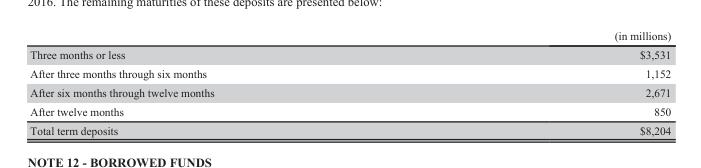table: (29, 29, 670, 136)
table column: (29, 29, 413, 136), (413, 29, 670, 136)
table column header: (29, 29, 670, 45)
table row: (29, 45, 670, 64), (29, 82, 670, 101), (29, 101, 670, 120), (29, 64, 670, 82), (29, 29, 670, 45), (29, 120, 670, 136)
